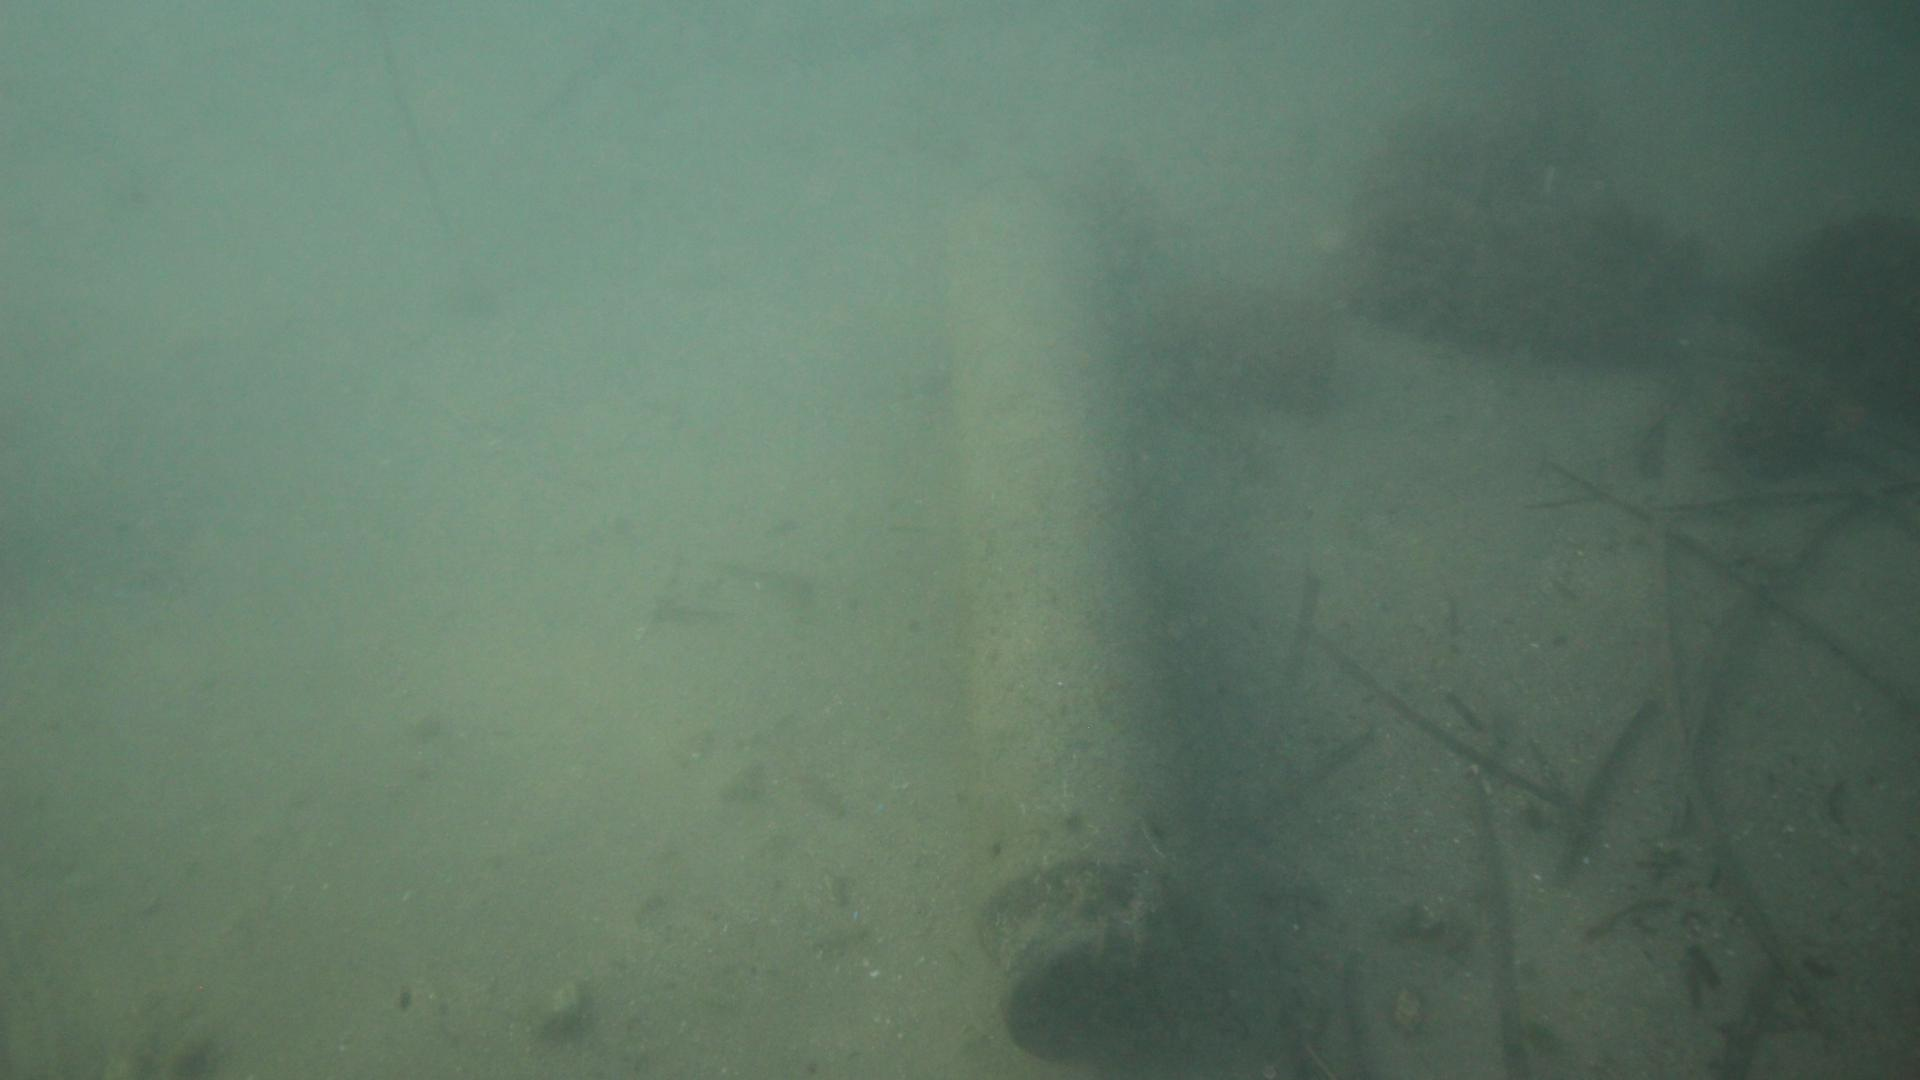eel fish trap: (940, 162, 1209, 1069)
